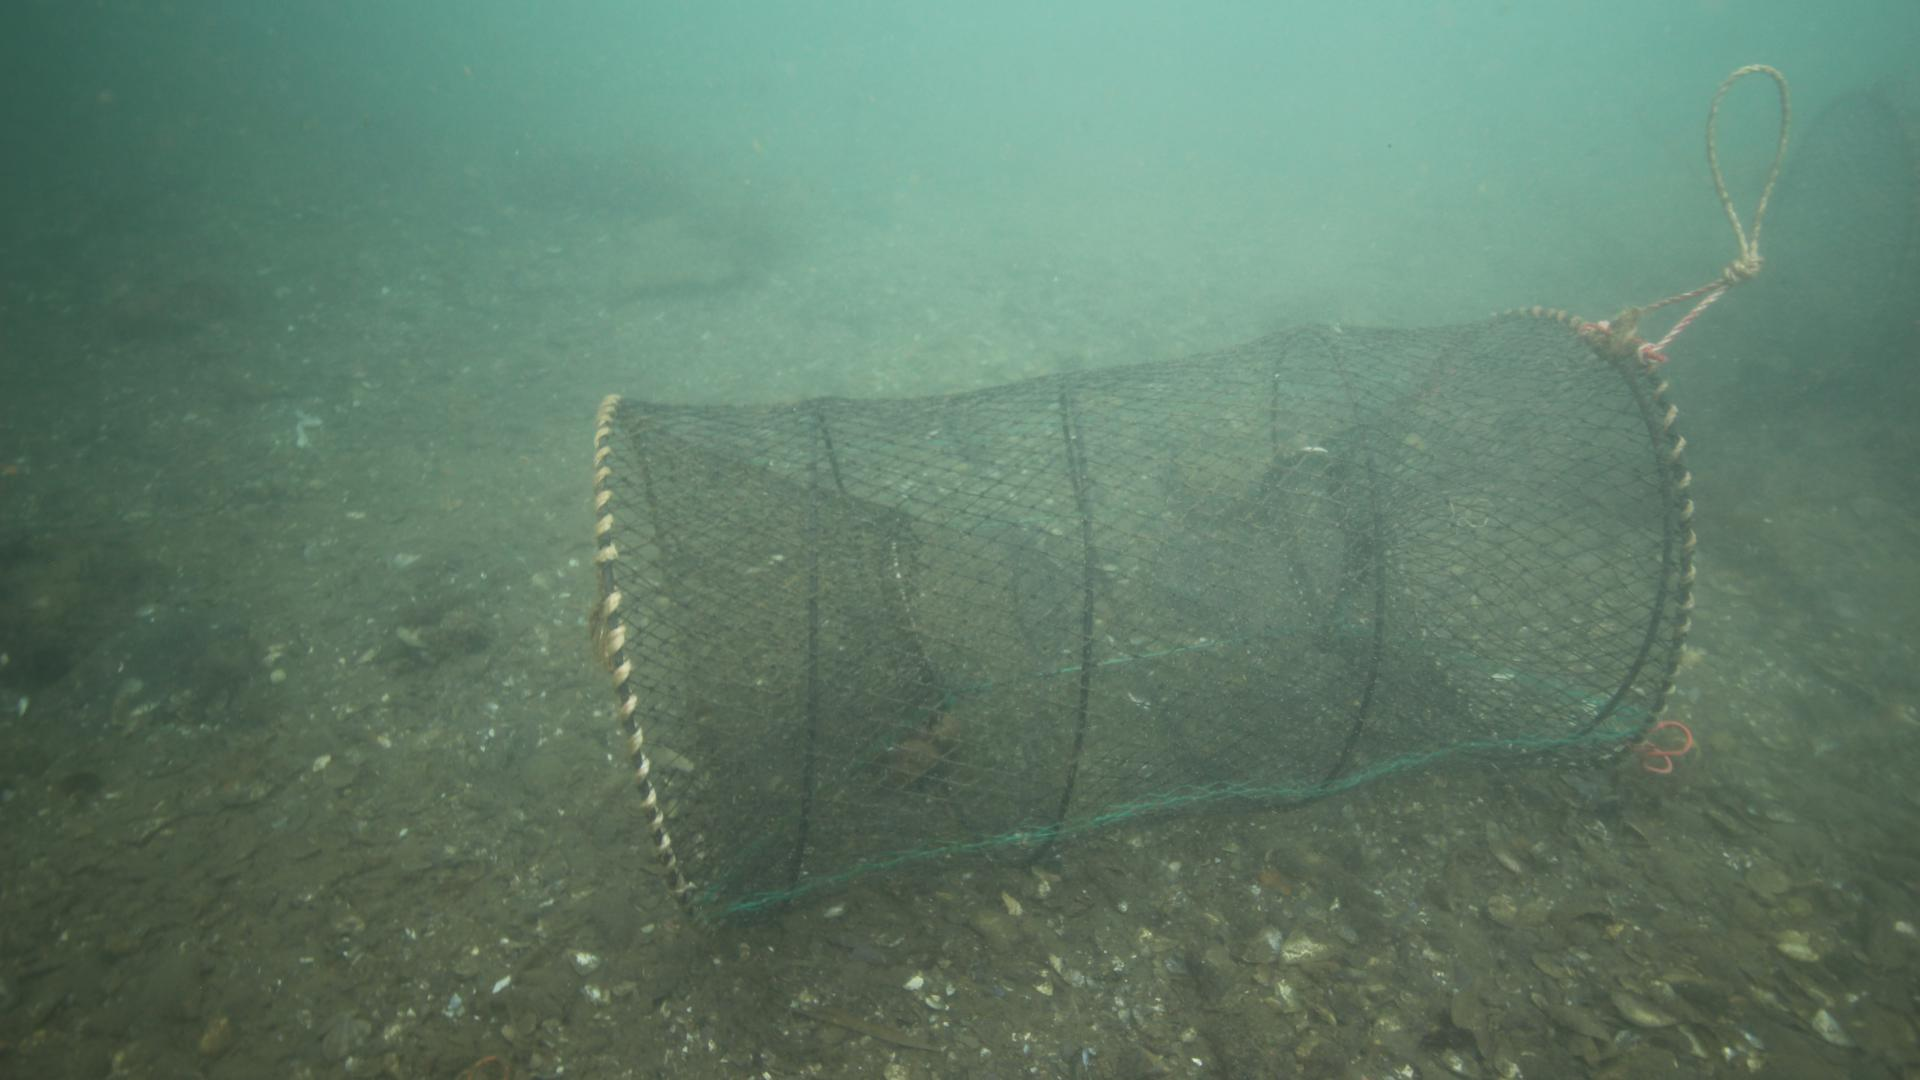bundle of ropes: (1619, 63, 1795, 344)
spring fish trap: (591, 303, 1695, 945)
